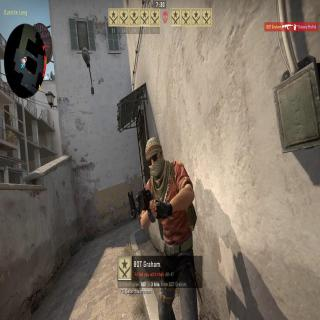T-Body: (139, 136, 205, 319)
T-Head: (145, 138, 165, 181)
